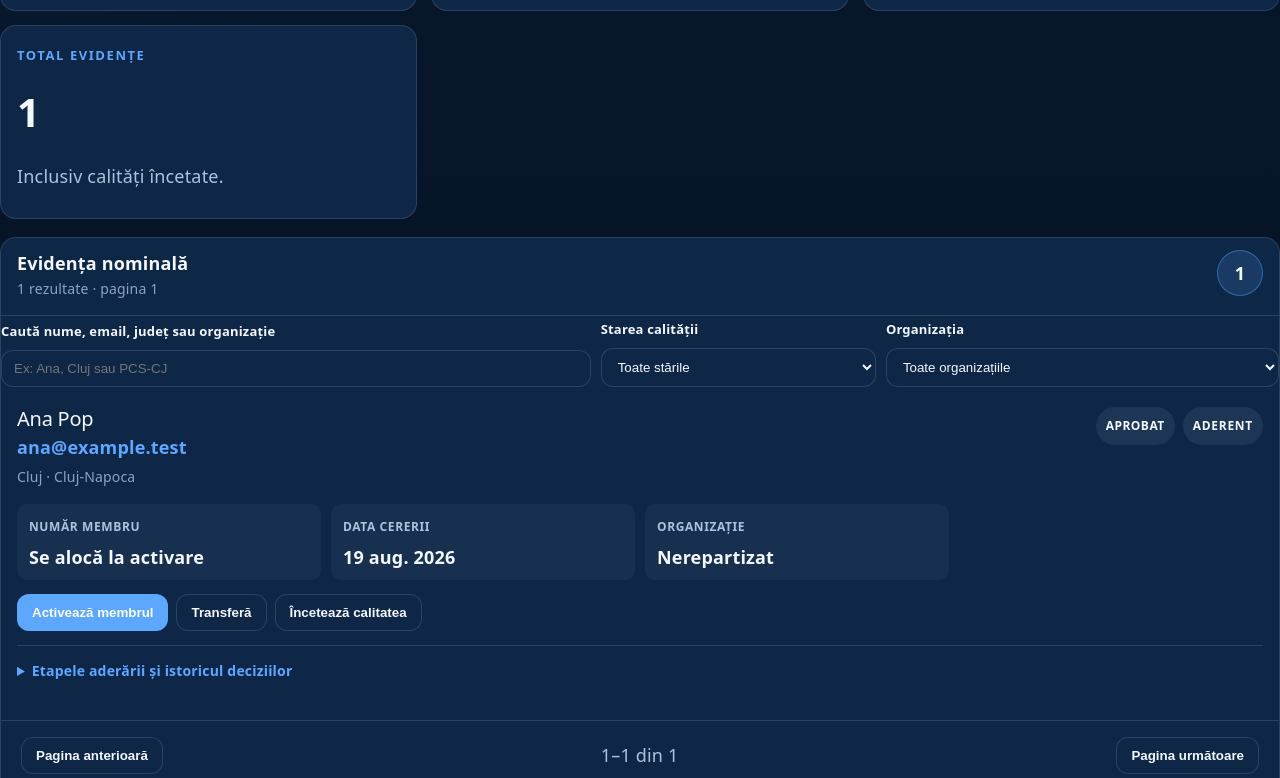
Test case: AdminMembersDashboardPage › submits an activation with optimistic version protection
(page scrolled)
Click the button "Activează membrul". click: [93, 612]
box: [17,594,168,631]
(page scrolled)
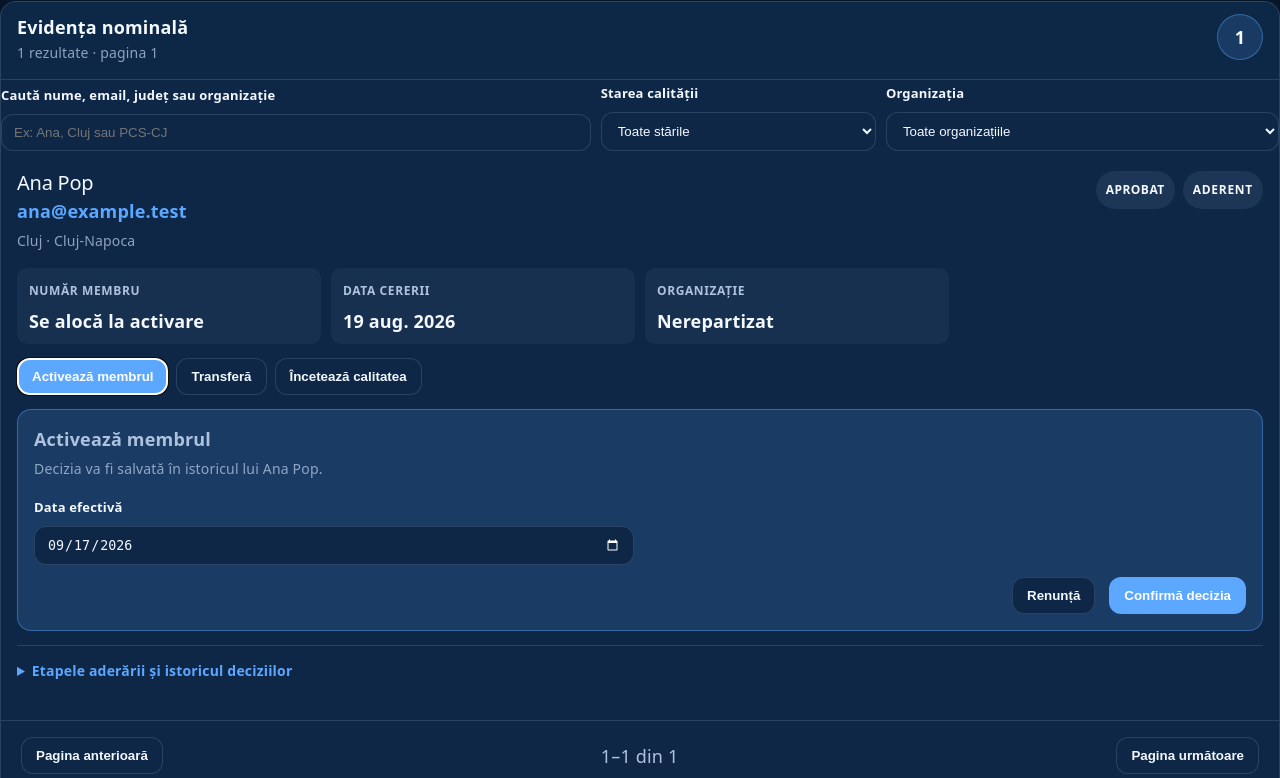
Result: the text "Decizia va fi salvată în istoricul lui Ana Pop." is shown at [34,459,323,478]
Click the button "Confirmă decizia". click: [1178, 596]
box: [1109,577,1246,614]
(page scrolled)
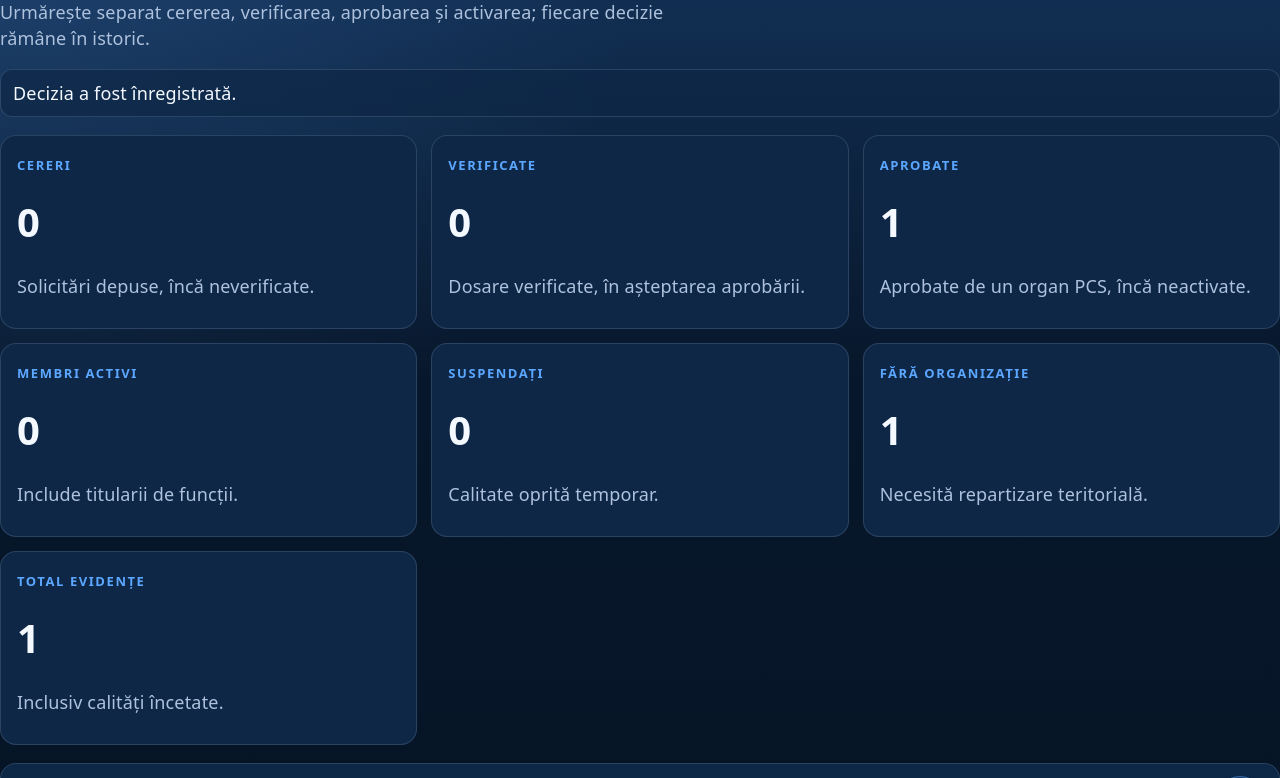
Result: the text "Decizia a fost înregistrată." is shown at [0,69,1279,118]
